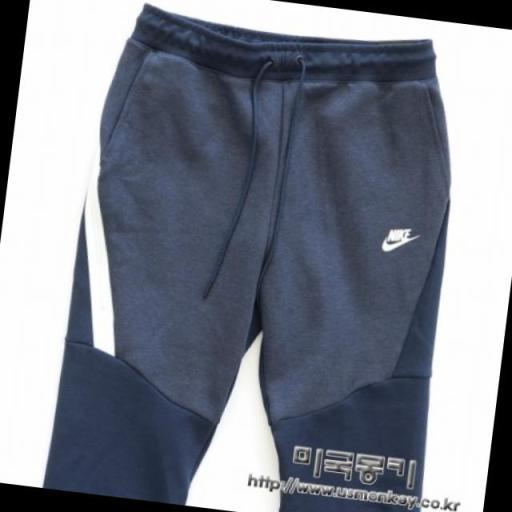Nike: (378, 235, 414, 255), (388, 225, 410, 244)
